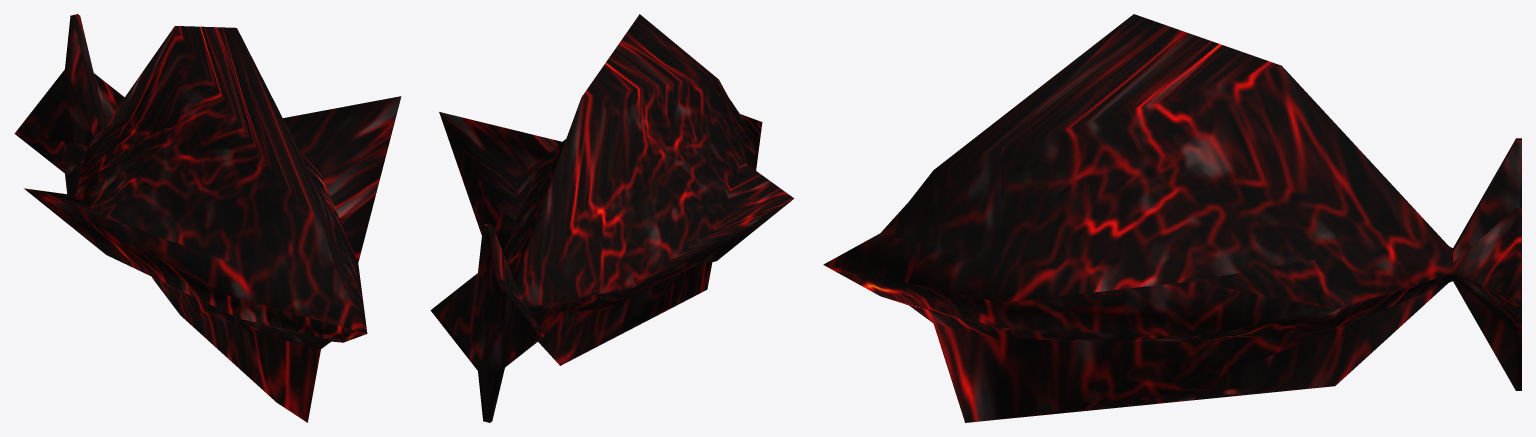
Rendered from ship1.obj.
The picture shows the model from 3 angles, left to right: view 1: azimuth 30°, elevation 25°; view 2: azimuth 150°, elevation 25°; view 3: azimuth 270°, elevation 25°; orthographic projection. The views are drawn at different scales.
Parts seen in each view (by area): view 1: Ship1_Cube.001; view 2: Ship1_Cube.001; view 3: Ship1_Cube.001.
Part boxes in pixels (left/top/right/bottom): Ship1_Cube.001: left=14, top=14, right=401, bottom=422; Ship1_Cube.001: left=430, top=14, right=793, bottom=422; Ship1_Cube.001: left=823, top=14, right=1521, bottom=422.
Size of the model in its own units: 7.26 by 6.3 by 9.76.
